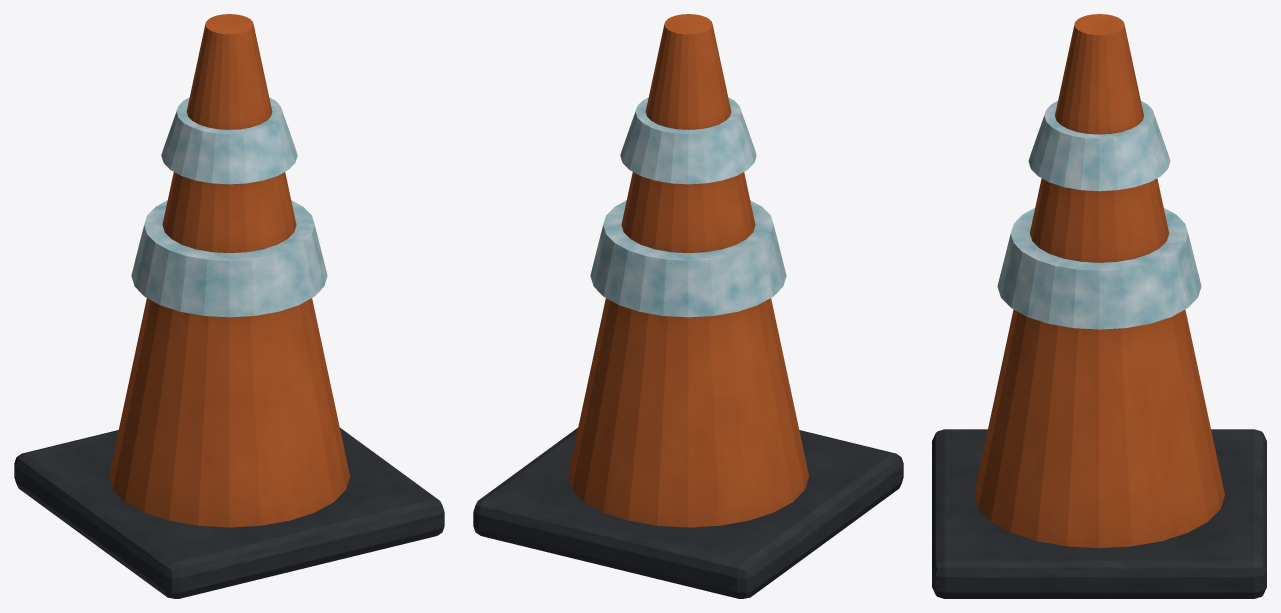
The model's file is base_build_cone.glb.
3 renders of one model, left to right at view 1: azimuth 30°, elevation 25°; view 2: azimuth 150°, elevation 25°; view 3: azimuth 270°, elevation 25°, orthographic. The views are drawn at different scales.
Parts seen in each view (by area): view 1: base_build_cone; view 2: base_build_cone; view 3: base_build_cone.
Part boxes in pixels (<box>): base_build_cone: <box>14,14,444,598</box>; base_build_cone: <box>473,14,903,598</box>; base_build_cone: <box>932,14,1266,598</box>.
Size of the model in its own units: 0.4 by 0.67 by 0.4.
3 materials, 3 textured.
